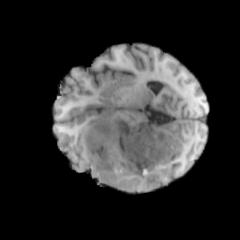glioma: (79, 116, 196, 191)
